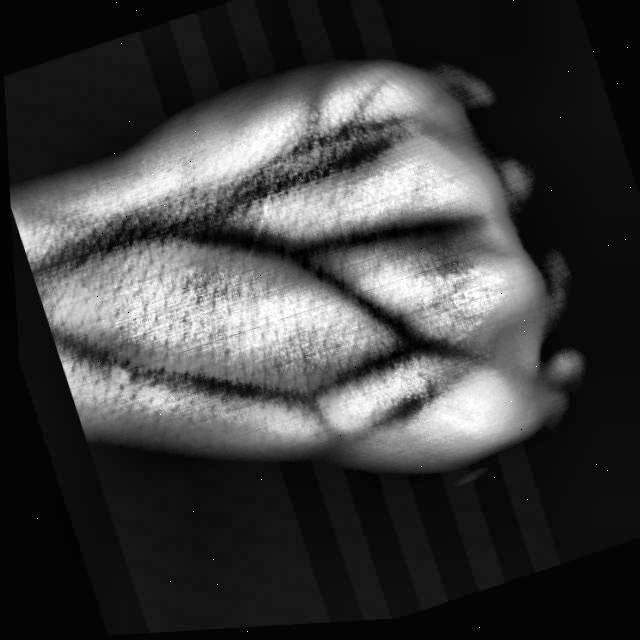Vein: (176, 217, 353, 296), (110, 354, 286, 404)
